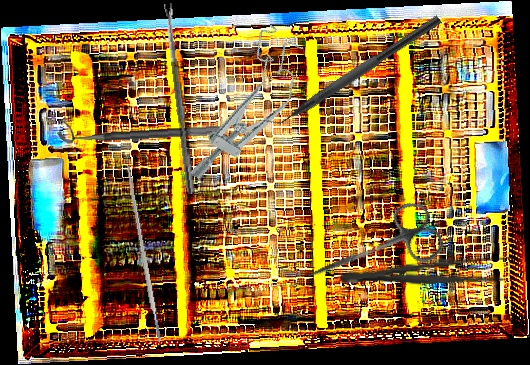Chopper: (257, 3, 443, 139)
Dressing Forceps: (340, 252, 515, 294)
Fixation Ring: (56, 111, 223, 145)
Iris Scissors: (295, 195, 448, 308)
Scalpel Handle: (124, 165, 163, 344)
Speculum: (179, 22, 318, 198)
Surgical Spoon: (163, 2, 197, 195)
